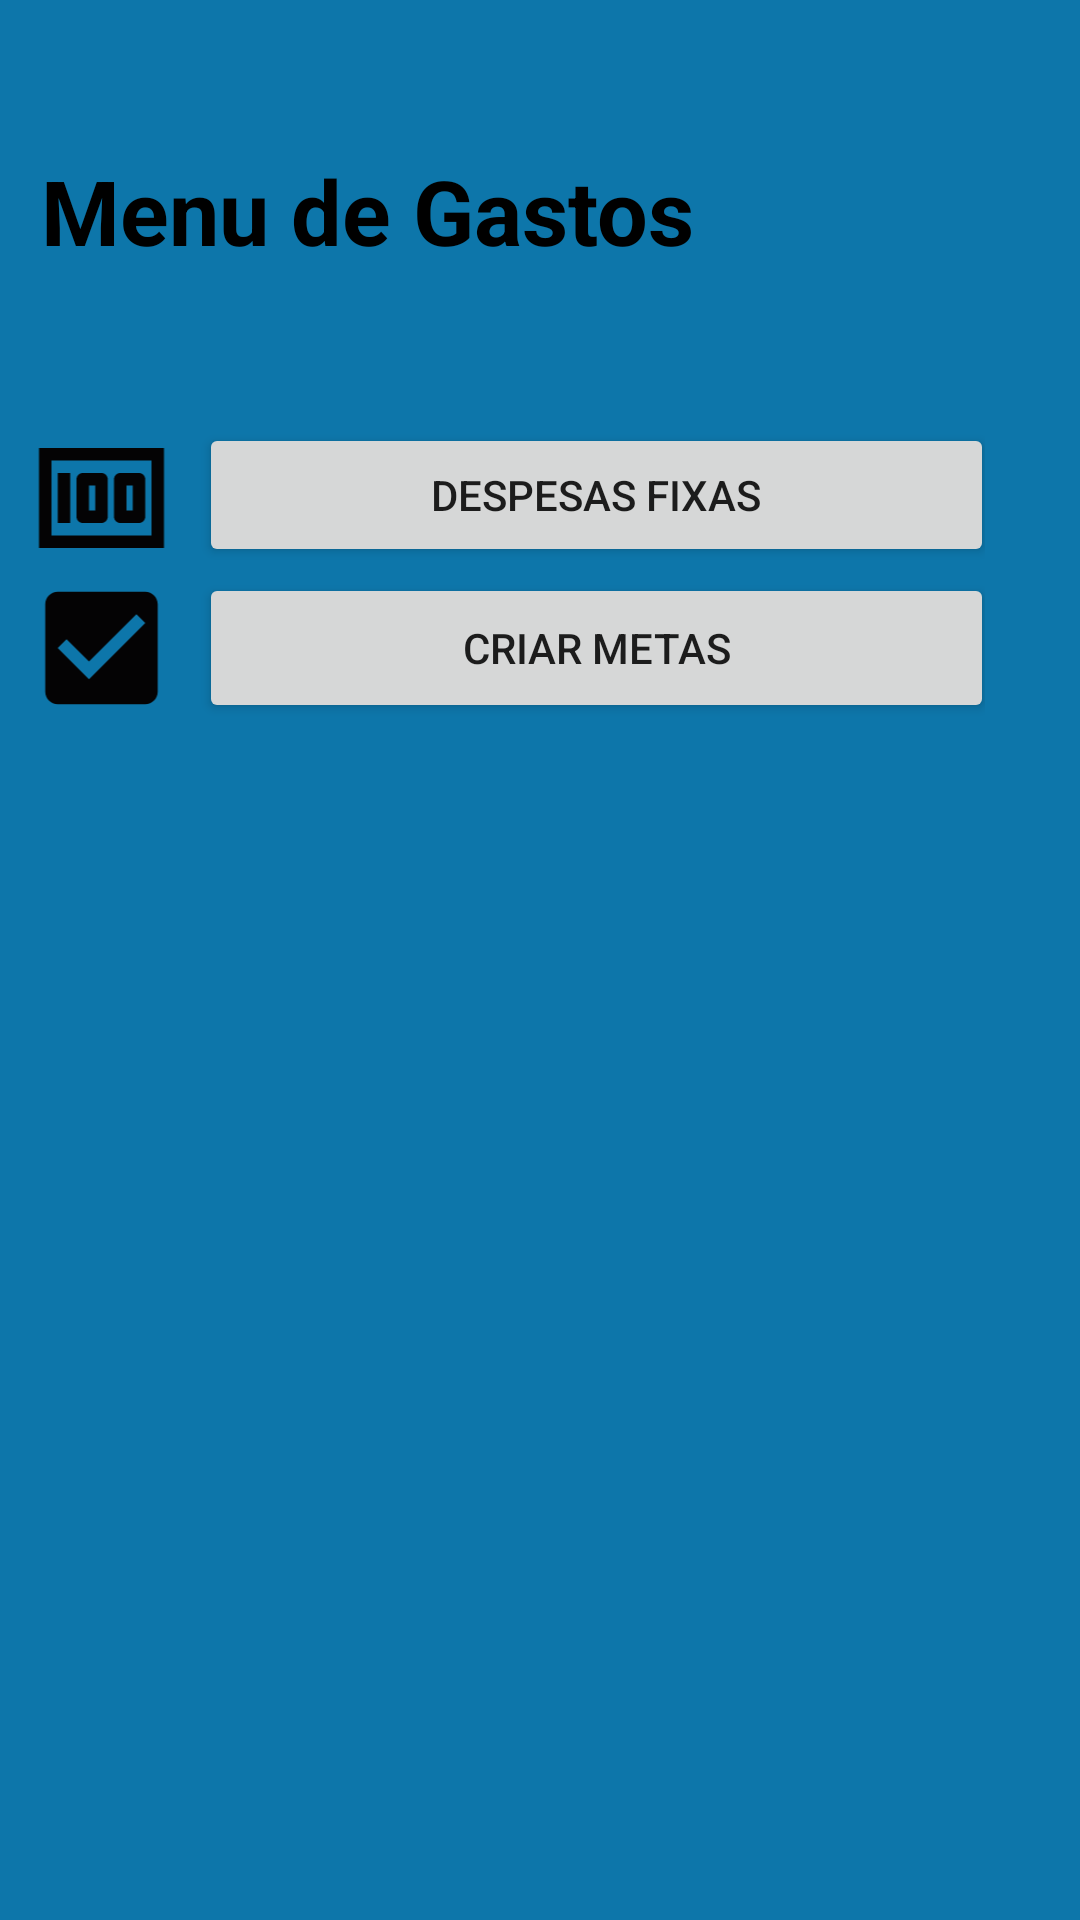

Icon bounding boxes for this 1080×1920 phone screenshot, format bbox=(x1, y1, x2, y2):
check box: bbox=(45, 591, 158, 705)
money: bbox=(38, 448, 165, 548)
